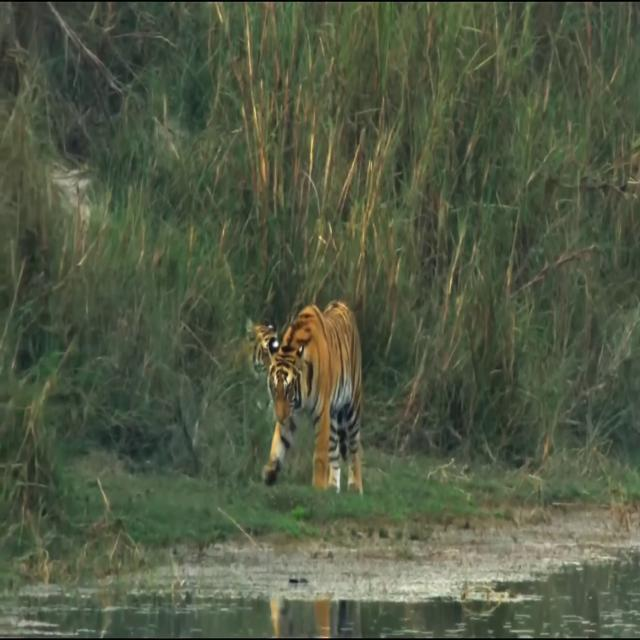tiger: (261, 299, 363, 494)
